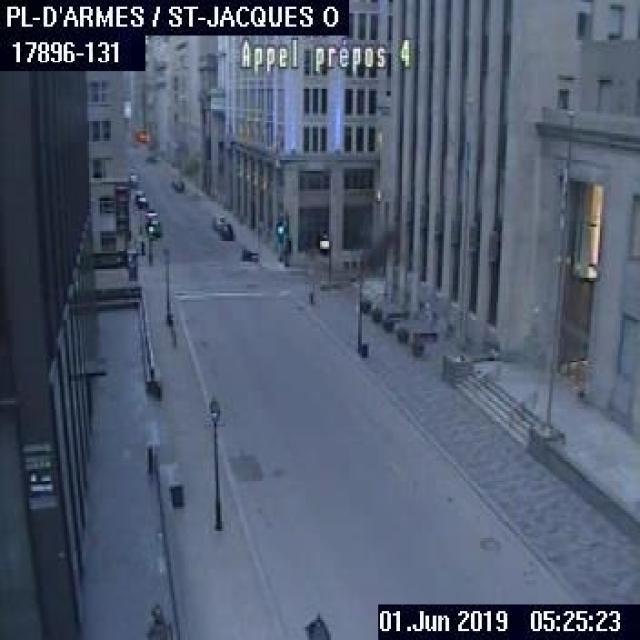vehicle: (219, 222, 233, 238), (211, 212, 224, 228), (144, 209, 157, 224), (240, 247, 256, 259), (171, 177, 184, 190), (131, 189, 143, 201), (135, 194, 146, 206), (144, 152, 156, 161)
